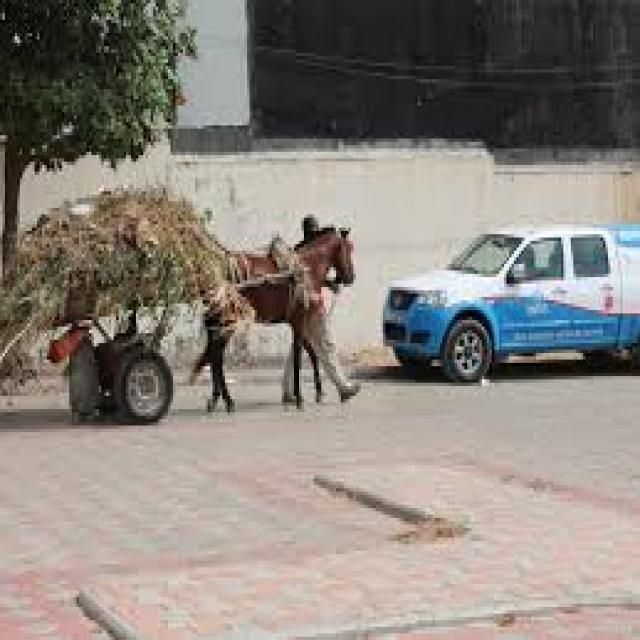charette: (2, 216, 360, 437)
particulier: (385, 225, 640, 381)
